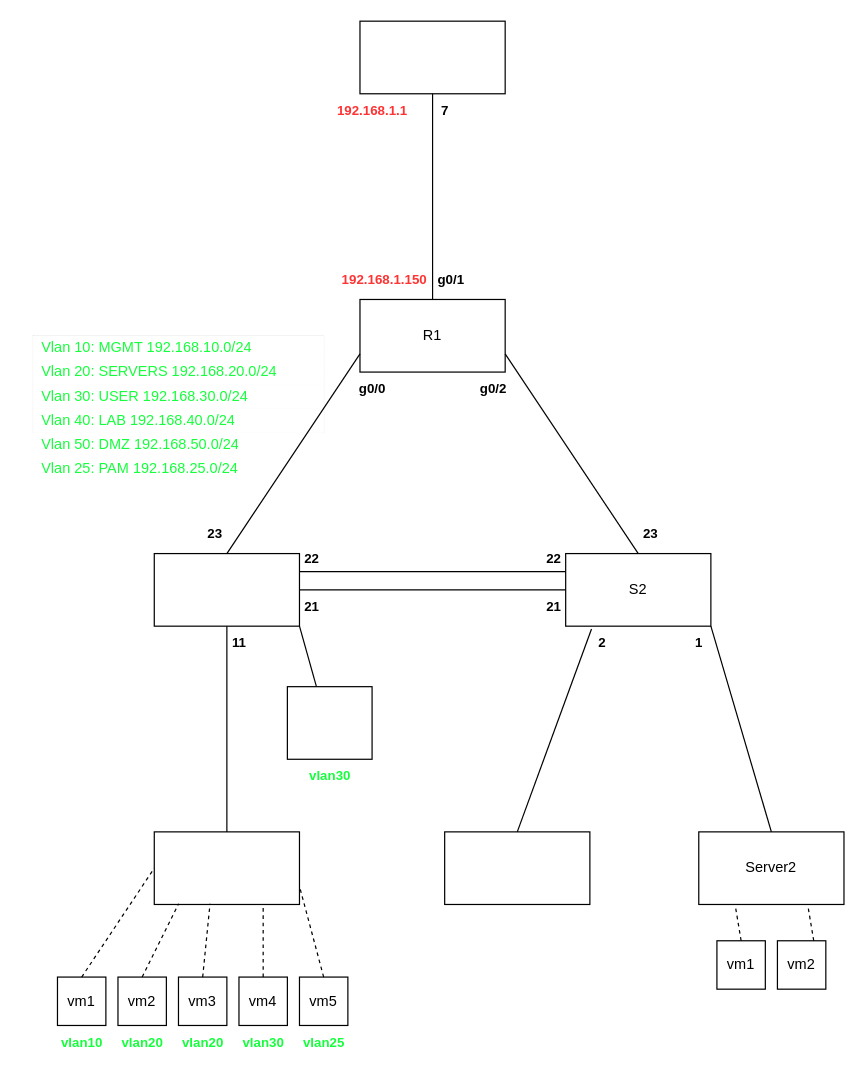
Some shapes in this 865 by 1083 pixel diagram are drawn without their labels. The box of each missing label's shape, as (x1, y1, x2, y2) in pixels:
fortinet: (359, 20, 505, 94)
Proxmox Server1: (153, 831, 299, 904)
R2: (443, 831, 590, 904)
S1: (153, 552, 299, 626)
user: (286, 685, 372, 759)
